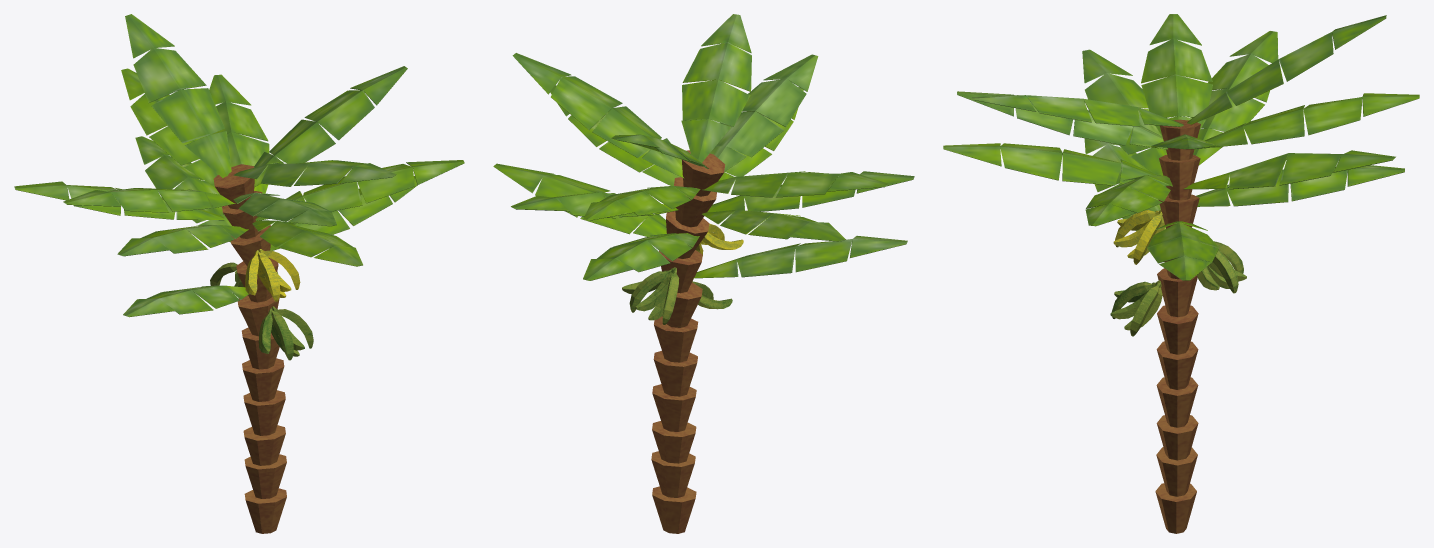
Rendered from Palmera_platano.obj.
The picture shows the model from 3 angles, left to right: view 1: azimuth 30°, elevation 25°; view 2: azimuth 150°, elevation 25°; view 3: azimuth 270°, elevation 25°; orthographic projection. The views are drawn at different scales.
Visible parts, largest first — view 1: Cylinder.011, Plane.007, Plane.004, Plane.010, Plane.006, Plane.003, Plane.009, Plane.008, Plane.002, Plane.011, Plane.013, Plane.005 (+5 smaller); view 2: Cylinder.011, Plane.009, Plane.004, Plane.001, Plane.013, Plane.003, Plane.014, Plane.005, Plane.012, Plane.002, Plane.011, Cube.001 (+5 smaller); view 3: Cylinder.011, Plane.003, Plane.008, Plane.002, Plane.006, Plane.012, Plane.007, Plane.005, Plane.009, Plane.011, Plane.001, Plane.014 (+6 smaller).
Part boxes in pixels (x1,y1,x2,y2): Cylinder.011: (213, 164, 286, 533); Plane.007: (125, 14, 231, 177); Plane.004: (254, 66, 407, 187); Plane.010: (255, 160, 464, 220); Plane.006: (209, 74, 269, 193); Plane.003: (63, 188, 236, 212); Plane.009: (233, 160, 396, 186); Plane.008: (252, 220, 362, 266); Plane.002: (121, 68, 218, 186); Plane.011: (117, 225, 248, 256); Plane.013: (123, 285, 248, 317); Plane.005: (135, 136, 231, 242); Cylinder.011: (651, 150, 725, 533); Plane.009: (681, 14, 751, 162); Plane.004: (512, 53, 684, 178); Plane.001: (710, 54, 818, 171); Plane.013: (693, 235, 907, 278); Plane.003: (702, 171, 888, 197); Plane.014: (493, 163, 666, 236); Plane.005: (583, 233, 699, 280); Plane.012: (702, 209, 845, 241); Plane.002: (583, 186, 700, 220); Plane.011: (707, 171, 914, 211); Cube.001: (622, 267, 679, 324); Cylinder.011: (1155, 119, 1200, 533); Plane.003: (1141, 14, 1212, 136); Plane.008: (943, 143, 1169, 185); Plane.002: (1195, 93, 1419, 149); Plane.006: (1183, 150, 1395, 189); Plane.012: (1190, 31, 1278, 165); Plane.007: (1187, 15, 1386, 124); Plane.005: (1196, 165, 1404, 206); Plane.009: (972, 95, 1183, 126); Plane.011: (1082, 49, 1167, 175); Plane.001: (957, 91, 1167, 149); Plane.014: (1147, 221, 1218, 280).
Bounding box in the file's own units: 11.04 × 12.81 × 11.27.
1 material, 1 textured.
